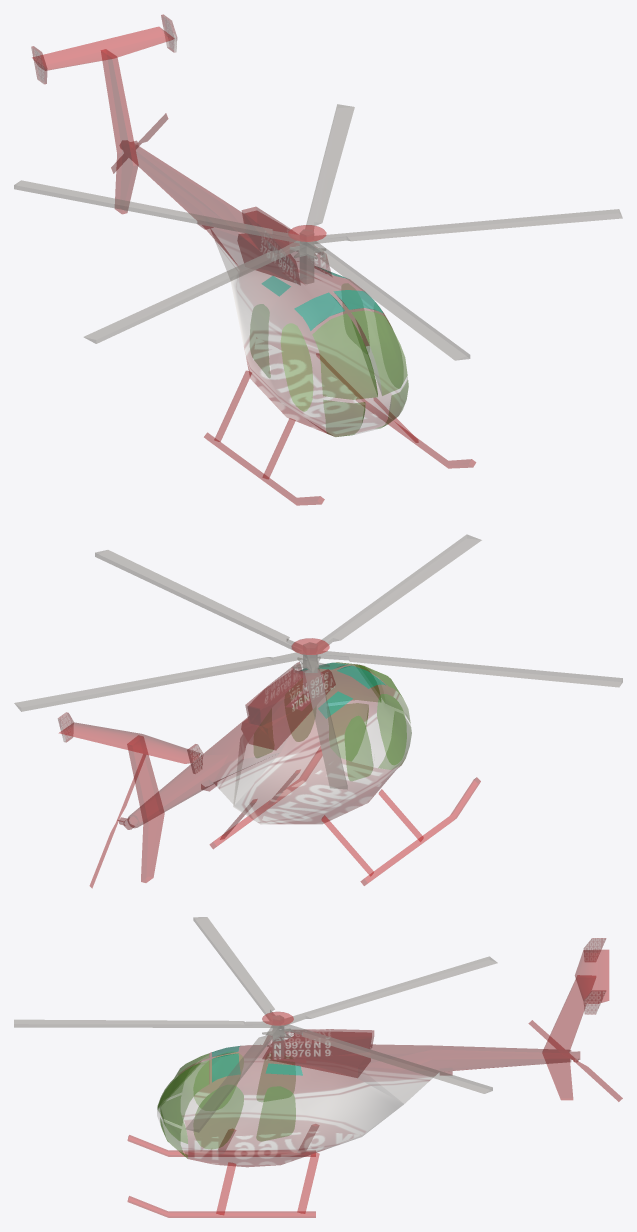
Rendered from heli4.glb.
3 views of the same model, one above another, from view 1: azimuth 30°, elevation 25°; view 2: azimuth 150°, elevation 25°; view 3: azimuth 270°, elevation 25° (orthographic). The views are drawn at different scales.
Visible parts, largest first — view 1: 500_D_fuselaje__VL, 500_D_PALAS__VL, 500_D_cristales_frontales__VL, 500_D_cristal_2_VL, 500_D_cristales_superiores__VL, 500_D_cristal_1_VL, 500_D_cristal_3_VL, 500_D_cristal_4_VL; view 2: 500_D_fuselaje__VL, 500_D_PALAS__VL, 500_D_cristales_frontales__VL, 500_D_cristal_2_VL, 500_D_cristal_4_VL, 500_D_cristales_superiores__VL, 500_D_cristal_1_VL, 500_D_cristal_3_VL, 500_D_ROTOR_DE_COLA_VL; view 3: 500_D_fuselaje__VL, 500_D_PALAS__VL, 500_D_cristales_frontales__VL, 500_D_cristal_1_VL, 500_D_cristal_3_VL, 500_D_cristal_2_VL, 500_D_cristal_4_VL, 500_D_cristales_superiores__VL, 500_D_ROTOR_DE_COLA_VL.
Boxes of the visible parts, x1,y1,x2,y2 form: 500_D_fuselaje__VL: (31, 14, 475, 505); 500_D_PALAS__VL: (14, 104, 622, 360); 500_D_cristales_frontales__VL: (312, 310, 408, 436); 500_D_cristal_2_VL: (281, 323, 313, 411); 500_D_cristales_superiores__VL: (261, 267, 382, 330); 500_D_cristal_1_VL: (374, 303, 403, 388); 500_D_cristal_3_VL: (341, 283, 369, 352); 500_D_cristal_4_VL: (250, 304, 270, 377); 500_D_fuselaje__VL: (58, 662, 480, 885); 500_D_PALAS__VL: (14, 534, 622, 789); 500_D_cristales_frontales__VL: (318, 662, 411, 769); 500_D_cristal_2_VL: (377, 694, 406, 764); 500_D_cristal_4_VL: (345, 716, 372, 780); 500_D_cristales_superiores__VL: (300, 662, 385, 718); 500_D_cristal_1_VL: (285, 679, 315, 741); 500_D_cristal_3_VL: (253, 709, 273, 757); 500_D_ROTOR_DE_COLA_VL: (90, 754, 145, 887); 500_D_fuselaje__VL: (127, 938, 608, 1217); 500_D_PALAS__VL: (14, 917, 497, 1132); 500_D_cristales_frontales__VL: (157, 1053, 208, 1158); 500_D_cristal_1_VL: (193, 1085, 243, 1149); 500_D_cristal_3_VL: (256, 1086, 295, 1141); 500_D_cristal_2_VL: (193, 1052, 243, 1109); 500_D_cristal_4_VL: (256, 1053, 295, 1101); 500_D_cristales_superiores__VL: (212, 1046, 302, 1082); 500_D_ROTOR_DE_COLA_VL: (528, 1020, 622, 1101).
Bounding box in the file's own units: 79.31 × 37.81 × 95.38.
8 materials, 3 textured.
